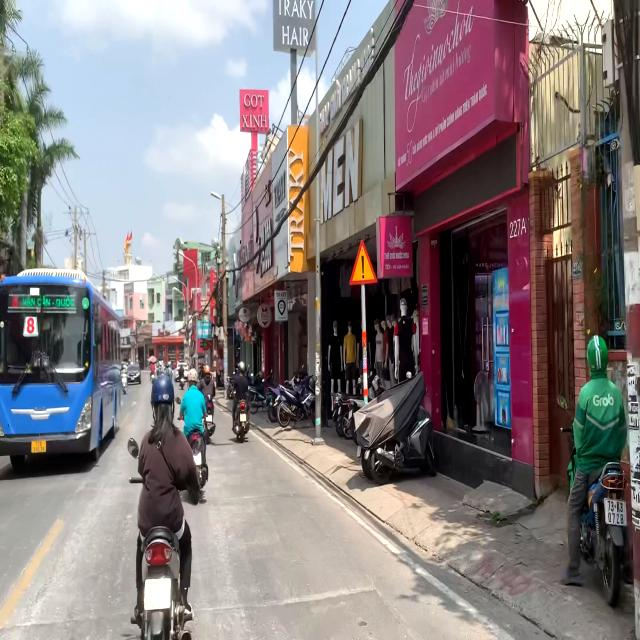W.233: (348, 238, 378, 287)
